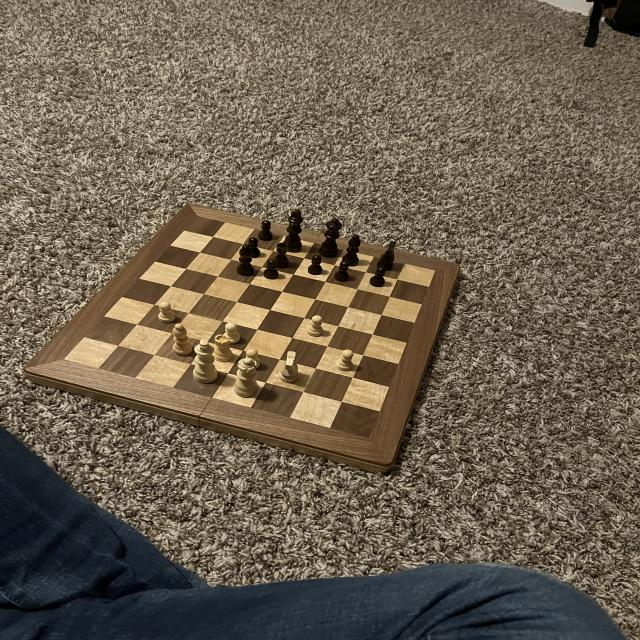bishop: (340, 233, 366, 267), (234, 242, 257, 277)
black-bishop: (281, 208, 306, 255)
black-king: (376, 240, 399, 272)
black-knight: (332, 258, 351, 284), (256, 218, 276, 242), (244, 235, 263, 259), (368, 265, 387, 288), (306, 253, 324, 277), (264, 258, 278, 278)
black-pawn: (318, 218, 344, 258)
black-queen: (273, 242, 291, 268)
black-rook: (171, 322, 194, 358)
white-bishop: (190, 336, 218, 386)
white-king: (276, 348, 301, 384)
white-knight: (304, 314, 328, 338), (334, 347, 356, 373), (219, 320, 242, 342), (242, 348, 264, 371), (157, 301, 177, 324)
white-pawn: (233, 356, 257, 397)
white-queen: (211, 332, 234, 363)
